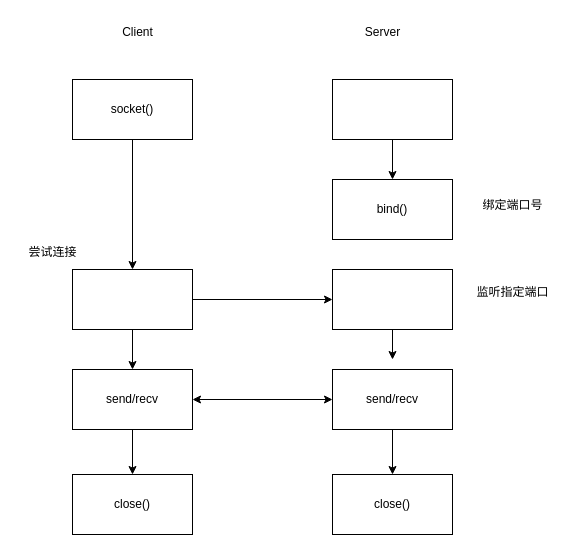
Some shapes in this 579 by 552 pixel diagram are drawn without their labels. Each missing label, with the box of its shape:
connect(): (72, 268, 192, 330)
listen(): (332, 268, 452, 330)
socker(): (332, 78, 452, 140)
